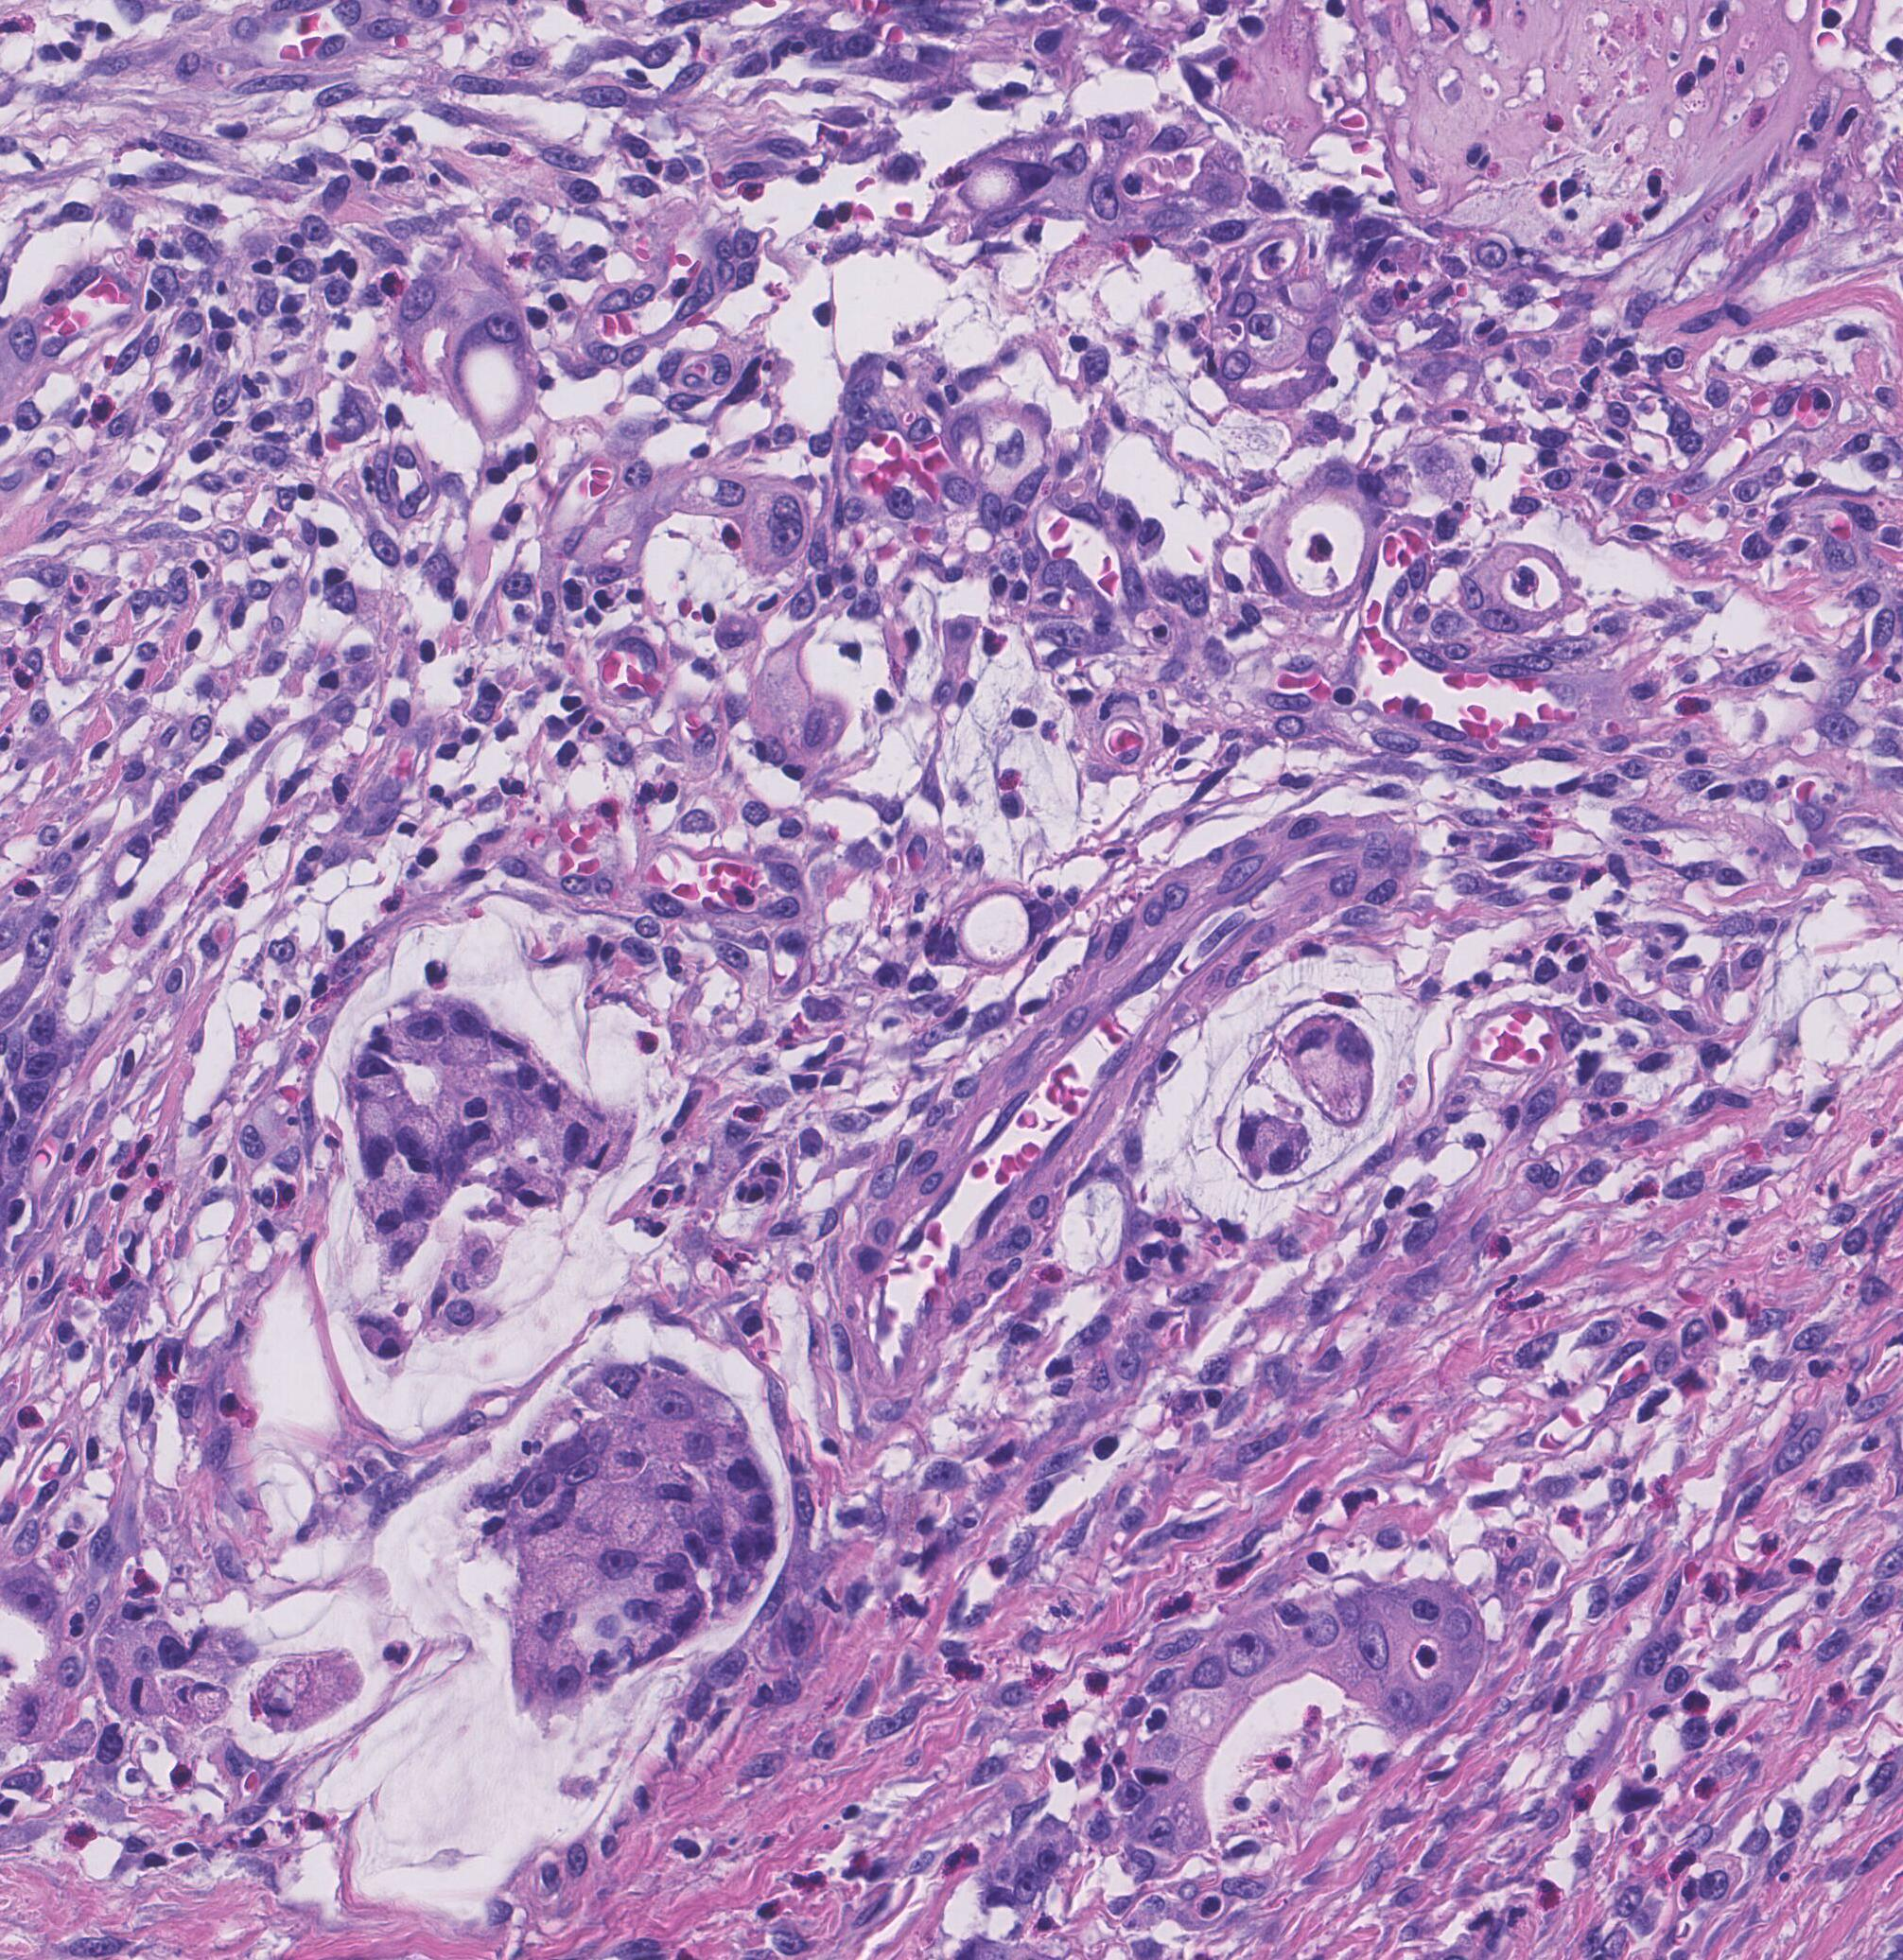ring_cell_cancer: (458, 311, 540, 439), (1293, 1020, 1375, 1122), (955, 882, 1046, 964), (756, 492, 806, 574), (971, 157, 1049, 210), (1240, 1118, 1307, 1178), (359, 1104, 394, 1183), (672, 476, 745, 511), (885, 609, 924, 663), (717, 607, 759, 653), (362, 1312, 402, 1360)
